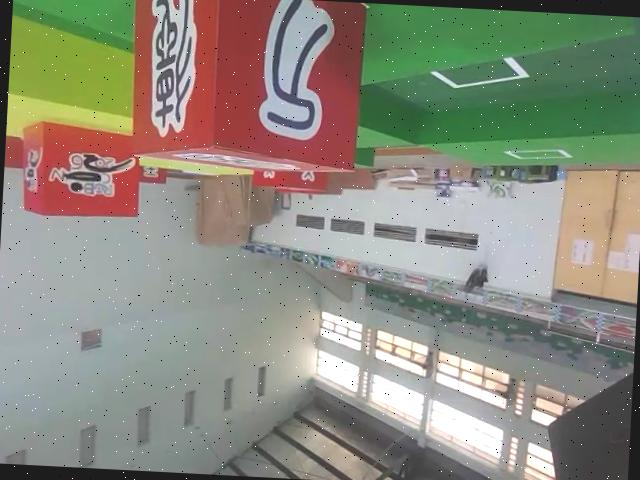R1: (18, 119, 142, 219)
R2 Fake: (125, 0, 369, 177)
